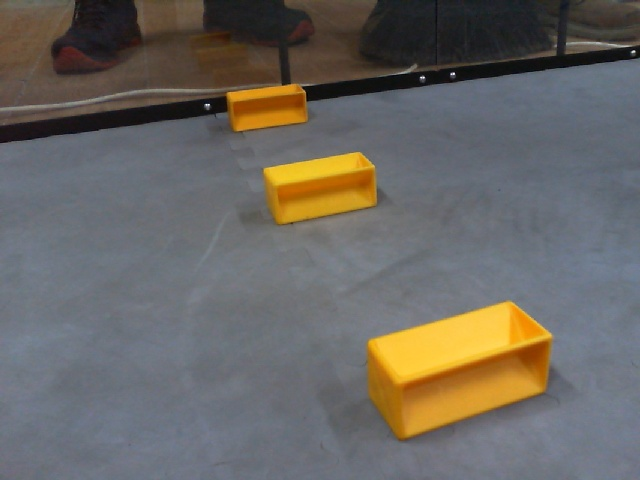YellowSample: (349, 296, 561, 448), (259, 148, 383, 226), (223, 80, 311, 132)
